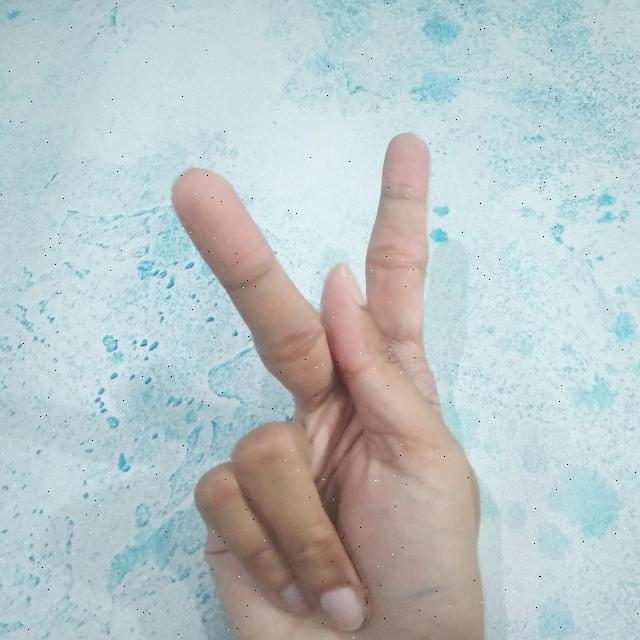K: (157, 130, 493, 640)
